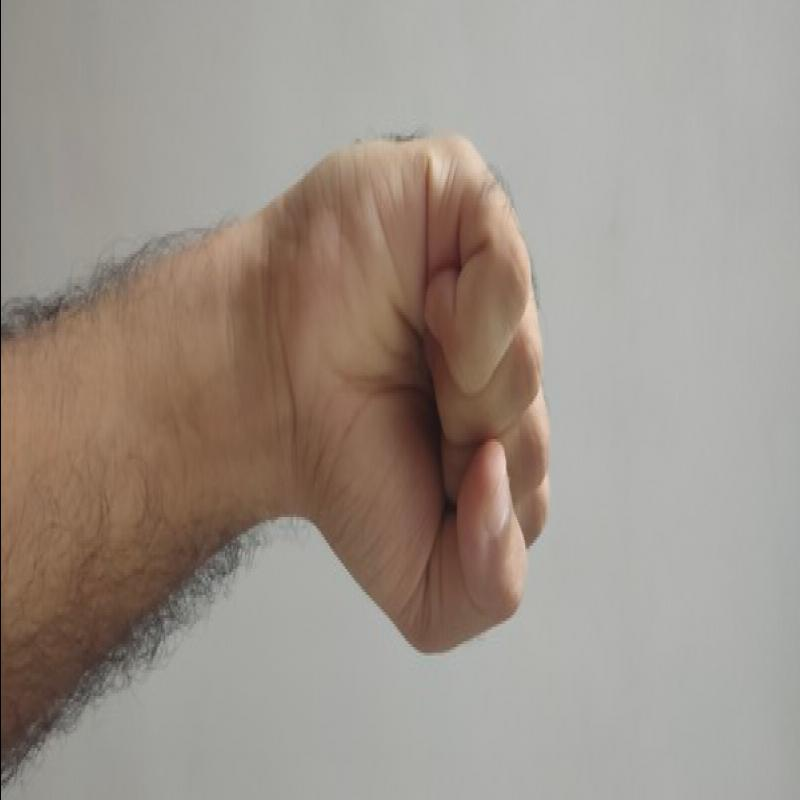Mushti: (219, 115, 590, 667)
